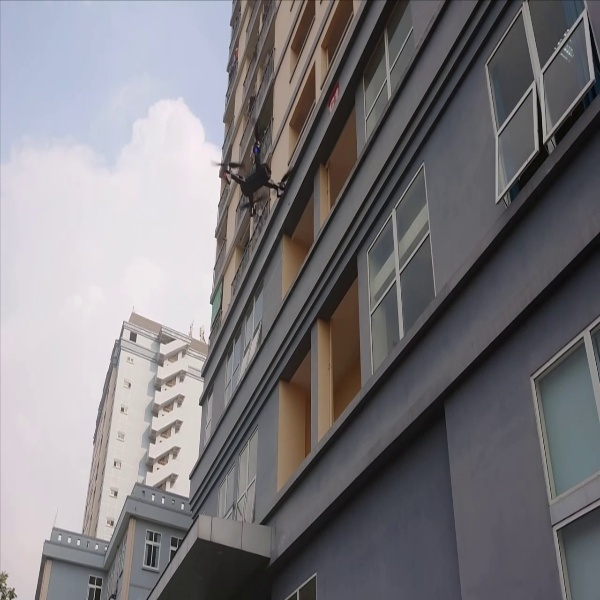drone: (209, 115, 293, 218)
